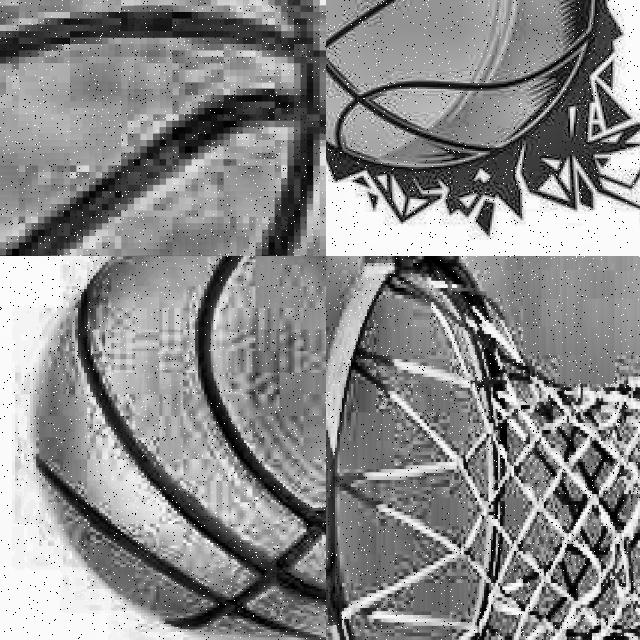Basketball: (36, 256, 326, 640), (326, 0, 598, 170)
